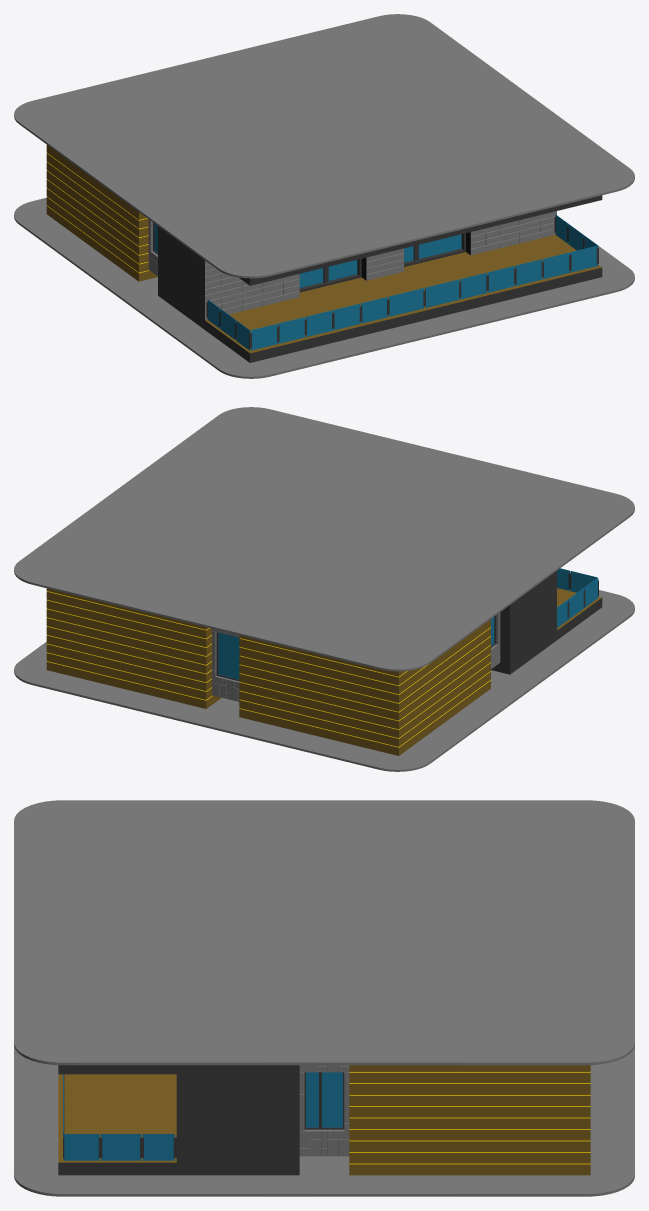
Rendered from SM_MK11_Middle_002.fbx.
3 views of the same model, one above another, from view 1: azimuth 30°, elevation 25°; view 2: azimuth 150°, elevation 25°; view 3: azimuth 270°, elevation 25° (orthographic). The views are drawn at different scales.
Parts seen in each view (by area): view 1: SM_MK11_Middle_002; view 2: SM_MK11_Middle_002; view 3: SM_MK11_Middle_002.
Part boxes in pixels (bbox=[...]): SM_MK11_Middle_002: bbox=[14, 14, 634, 378]; SM_MK11_Middle_002: bbox=[14, 407, 634, 771]; SM_MK11_Middle_002: bbox=[14, 800, 634, 1196].
Size of the model in its own units: 2100 by 500 by 2100.
